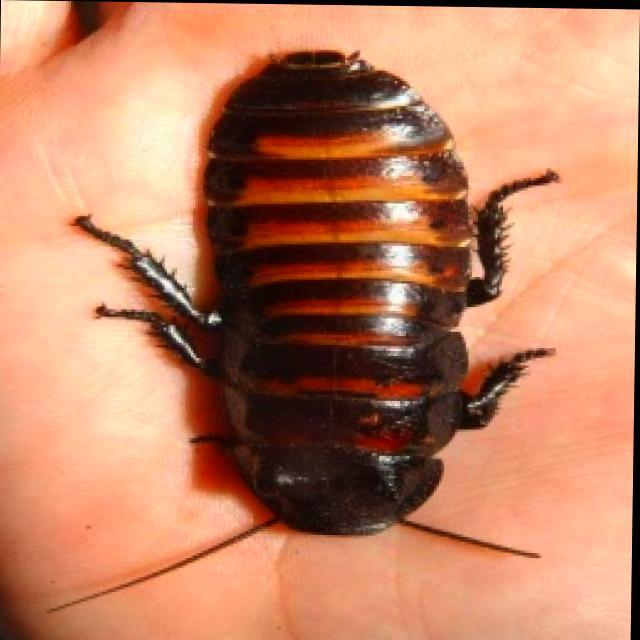cockroach: (100, 10, 534, 552)
